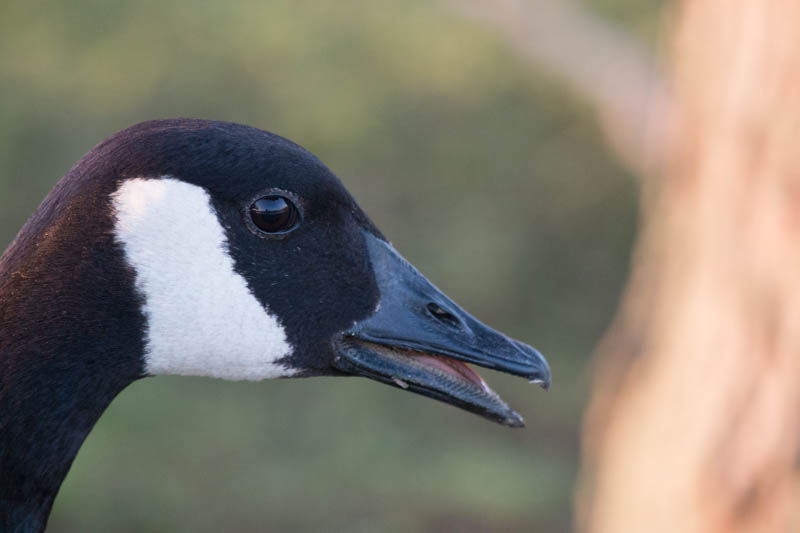goose-head: (16, 117, 553, 430)
